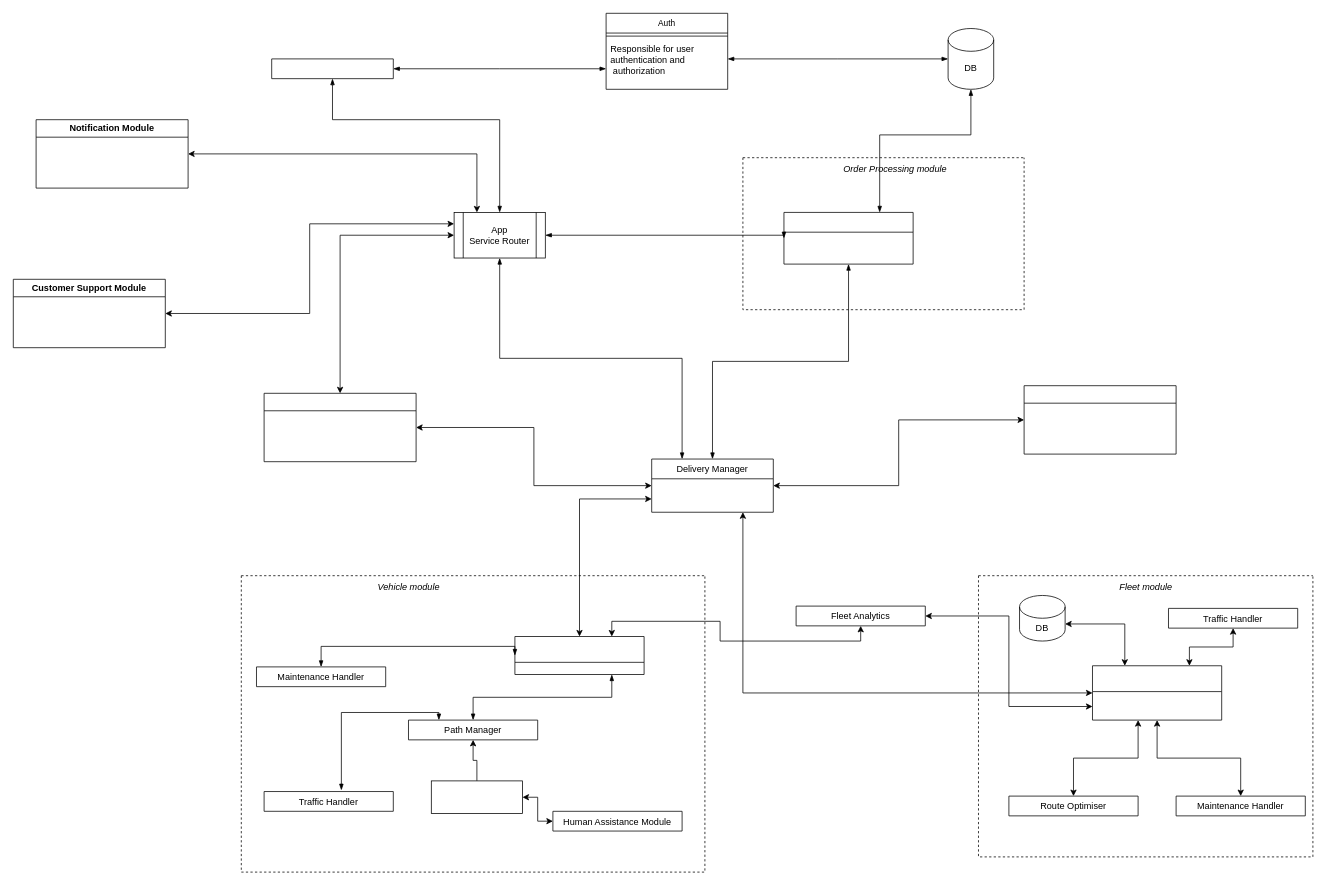
Image size: 1326x885. Some labels were removed from this diagram. Here are the shapes that lost their labels. From the top down, the centre of each, then its label:
At point (332, 68): "Application".
At point (848, 238): "Oder Manager".
At point (339, 427): "Issue Resolver".
At point (1099, 419): "Human Driver Module".
At point (579, 655): "Assignment Manager".
At point (1157, 692): "Fleet Manager".
At point (476, 797): "Self driving AI".
